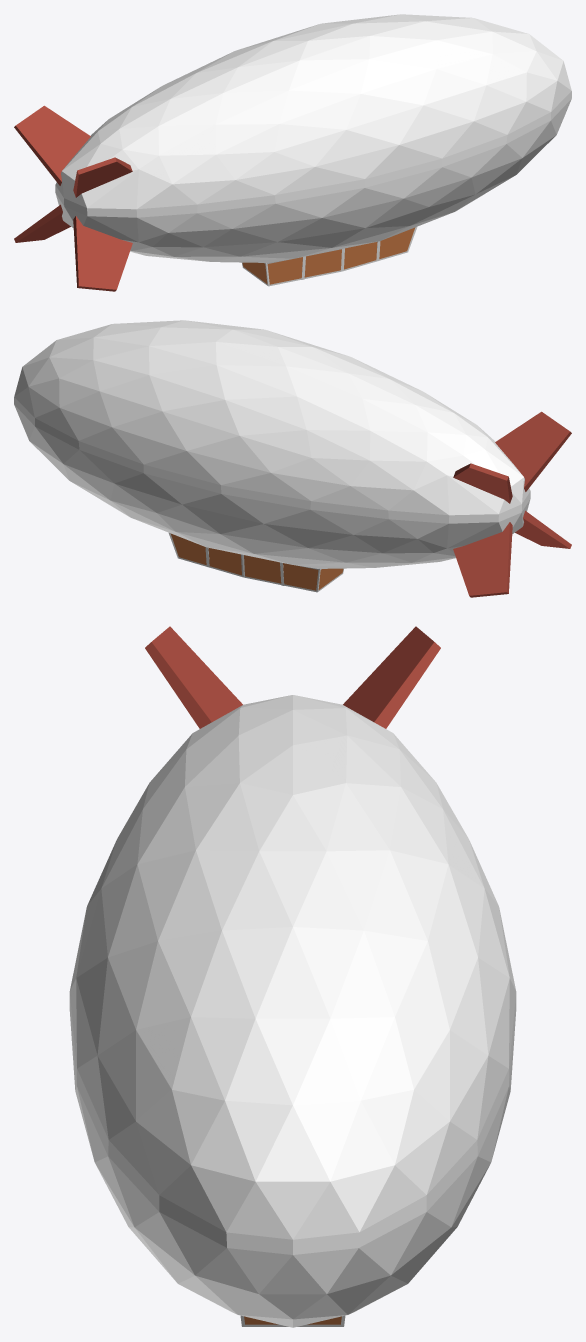
The model's file is AirShip.fbx.
3 renders of one model, top to bottom at view 1: azimuth 30°, elevation 25°; view 2: azimuth 150°, elevation 25°; view 3: azimuth 270°, elevation 25°, orthographic. The views are drawn at different scales.
Parts seen in each view (by area): view 1: transport_air.008; view 2: transport_air.008; view 3: transport_air.008.
Boxes of the visible parts, box(x1,y1,x2,y2) form: transport_air.008: box(14, 14, 571, 291); transport_air.008: box(14, 320, 571, 597); transport_air.008: box(69, 626, 516, 1327).
Bounding box in the file's own units: 1411 × 592 × 529.
1 material, 1 textured.
